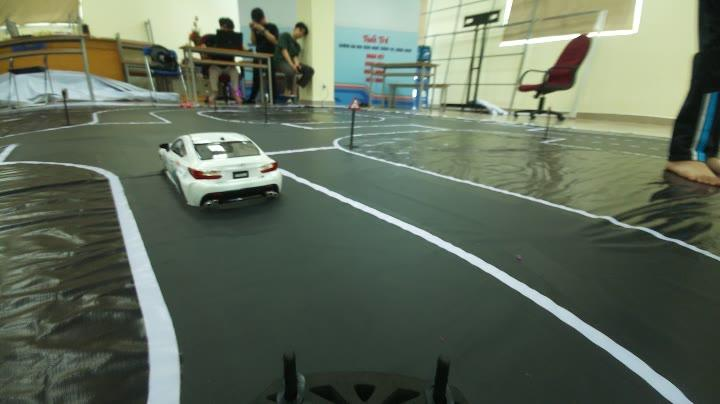car: (151, 126, 294, 225)
